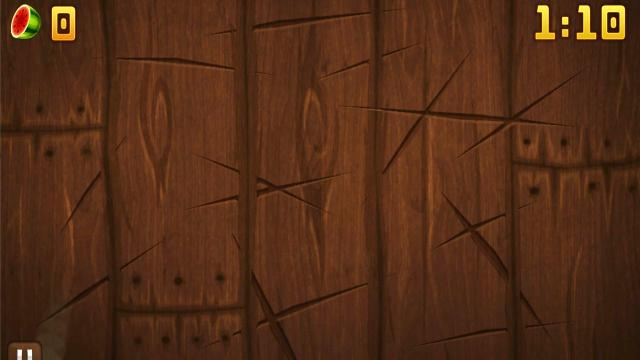ignore: (9, 3, 43, 41)
